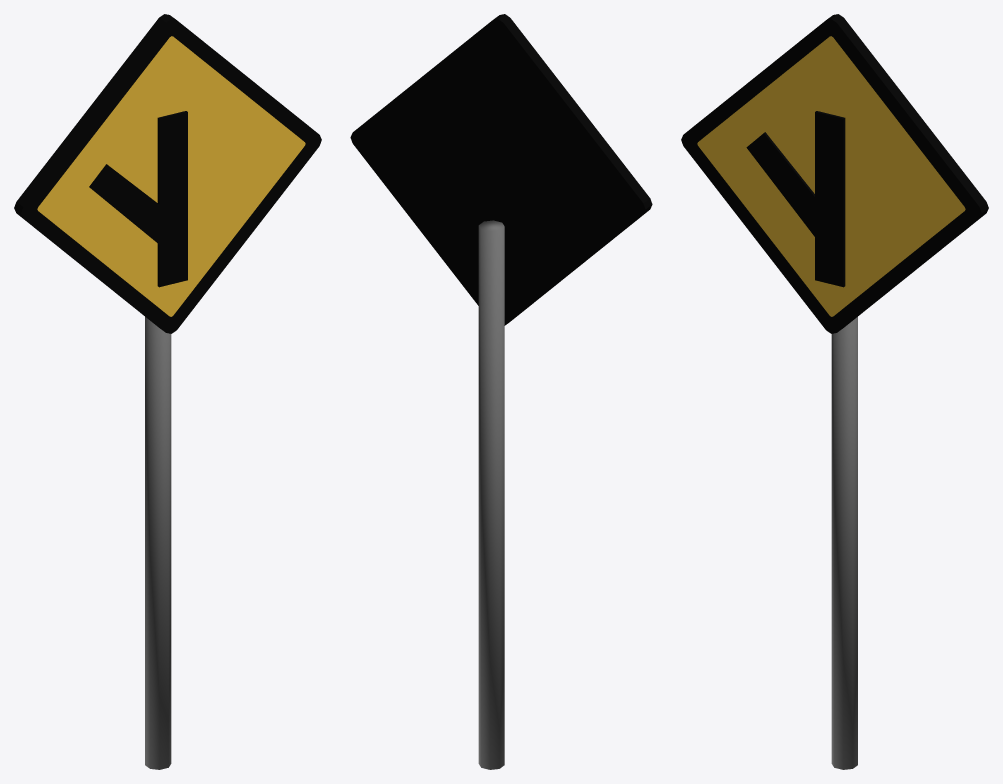
Rendered from Prop_StreetSign_SideRoadLeft.fbx.
3 views of the same model, side by side, from view 1: azimuth 30°, elevation 25°; view 2: azimuth 150°, elevation 25°; view 3: azimuth 330°, elevation 25° (orthographic).
Parts seen in each view (by area): view 1: Prop_StreetSign_SideRoadLeft; view 2: Prop_StreetSign_SideRoadLeft; view 3: Prop_StreetSign_SideRoadLeft.
Part boxes in pixels (box(x1,y1,x2,y2)): Prop_StreetSign_SideRoadLeft: box(14, 14, 321, 769); Prop_StreetSign_SideRoadLeft: box(350, 14, 652, 769); Prop_StreetSign_SideRoadLeft: box(681, 14, 988, 769).
Bounding box in the file's own units: 190 × 455 × 23.54.
